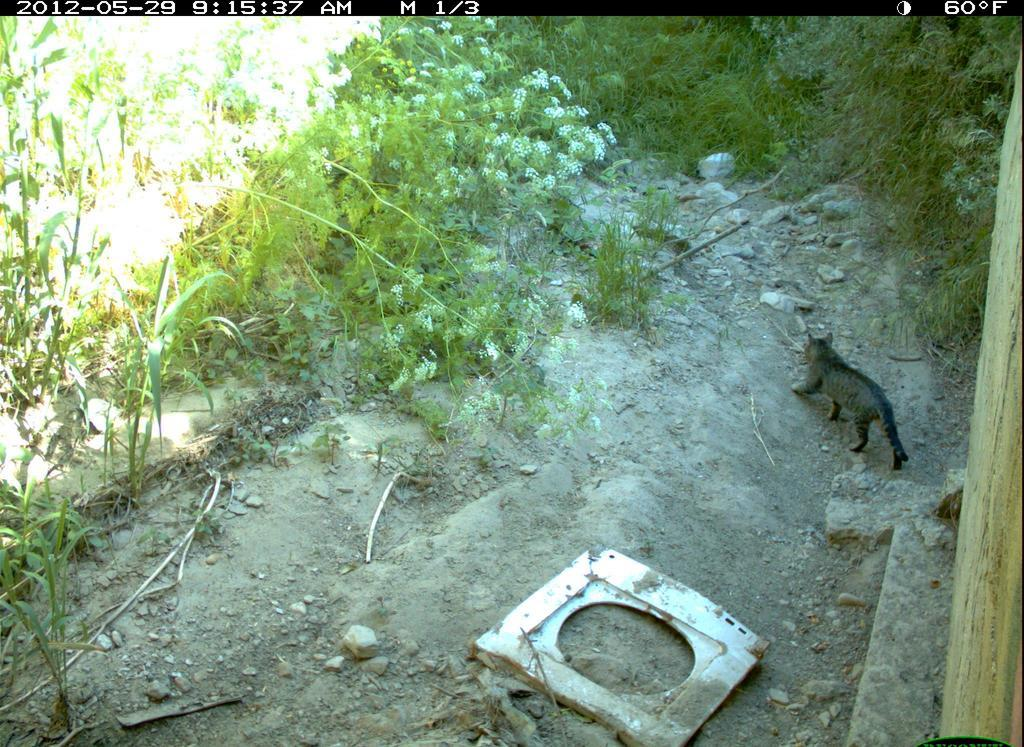cat: (786, 322, 916, 483)
